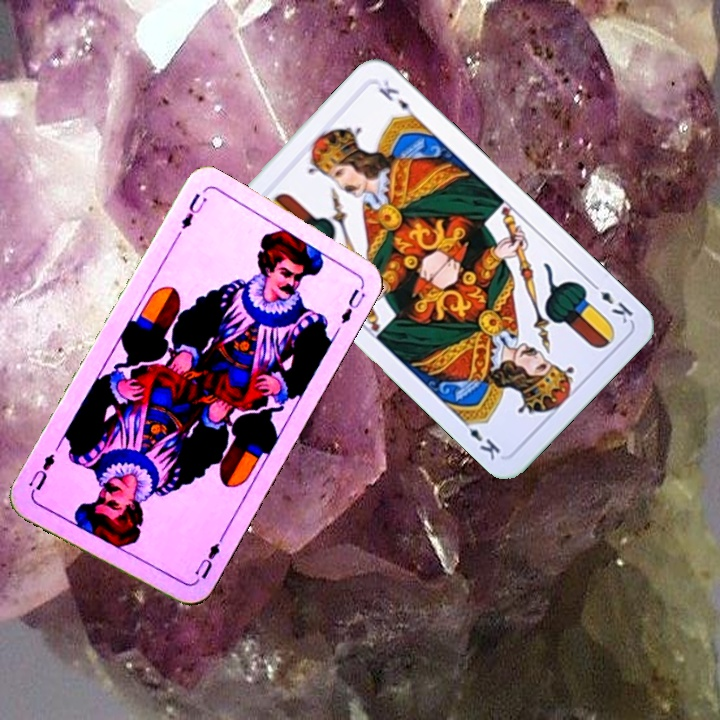EK: (586, 277, 636, 326)
EU: (190, 532, 226, 586), (177, 188, 210, 232)
